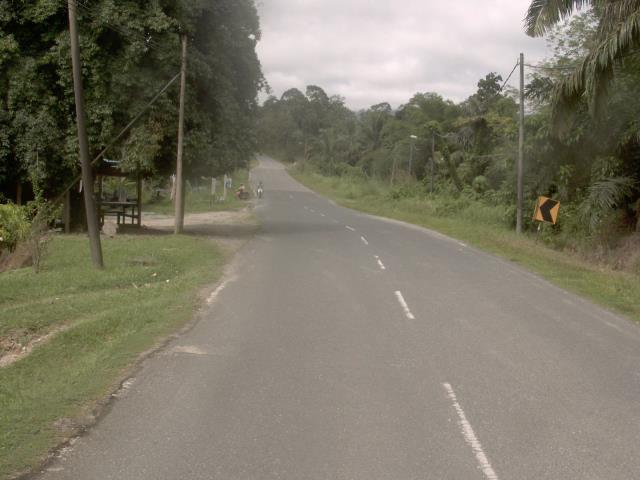traffic_sign: (530, 188, 565, 230)
